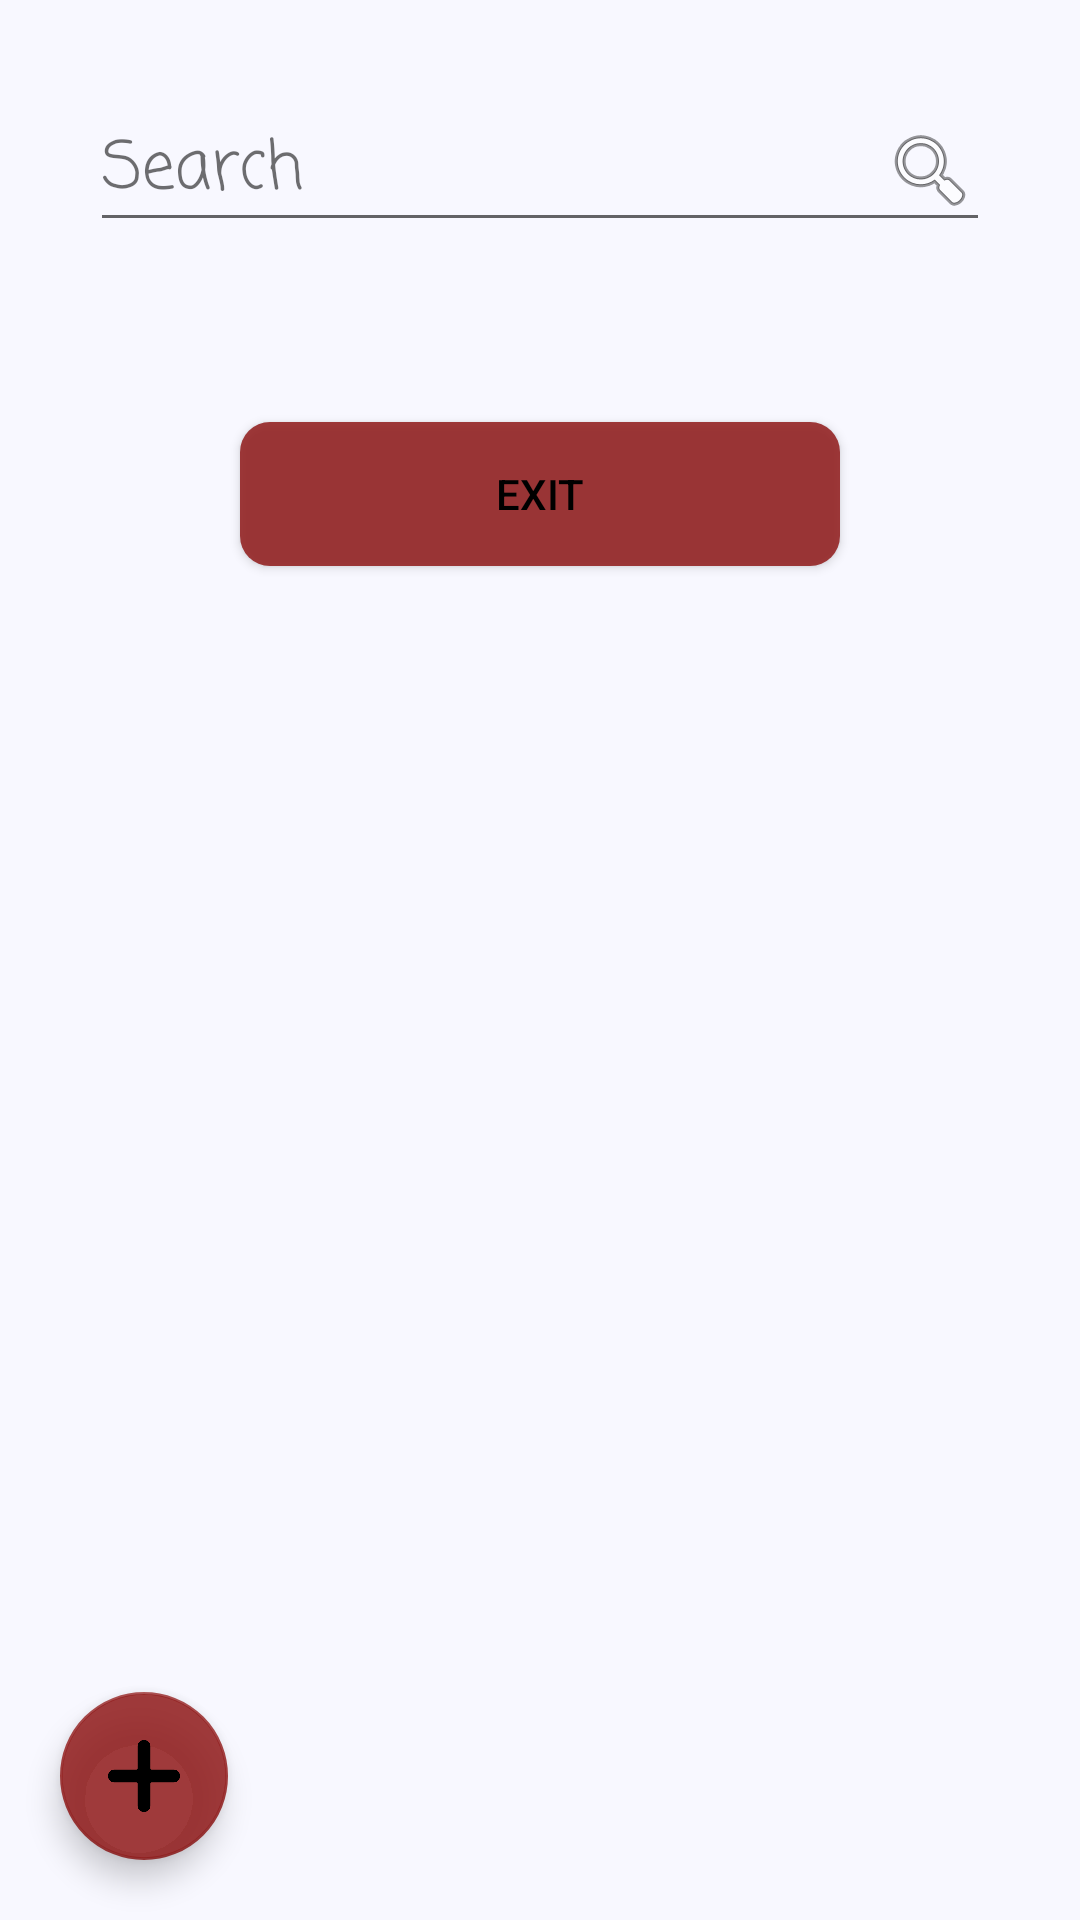

Icon bounding boxes for this 1080w x 1920h phone screenshot, format (x1=x1, y1=y1, x2=x2, y2=y2):
plus: (x1=60, y1=1692, x2=228, y2=1860)
